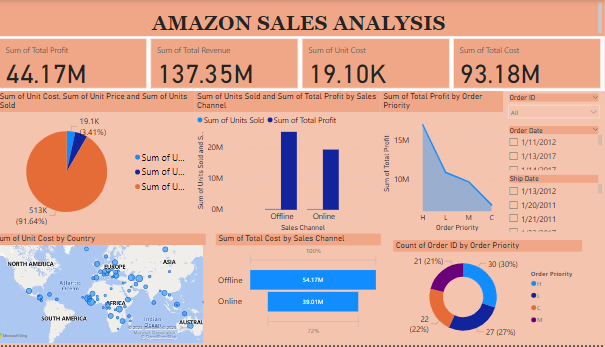

Layout of this report page (visuals, bound fields, positions):
{"tool":"powerbi","page":{"name":"Page 1","canvas":[1280,720],"ordinal":0},"visuals":[{"type":"textbox","box":[10.4,0,1268.5,75.7],"z":0},{"type":"cardVisual","fields":{"Data":["Sum(Amazon Sales data.Total Profit)","Sum(Amazon Sales data.Total Revenue)","Sum(Amazon Sales data.Unit Cost)","Sum(Amazon Sales data.Total Cost)"]},"box":[10.4,75.7,1268.5,114.8],"z":1000},{"type":"pieChart","fields":{"Y":["Sum(Amazon Sales data.Unit Cost)","Sum(Amazon Sales data.Unit Price)","Sum(Amazon Sales data.Units Sold)"]},"box":[10.4,190.5,412.4,297.6],"z":2000},{"type":"clusteredColumnChart","fields":{"Y":["Sum(Amazon Sales data.Units Sold)","Sum(Amazon Sales data.Total Profit)"],"Category":["Amazon Sales data.Sales Channel"]},"box":[422.8,190.5,388.9,297.6],"z":3000},{"type":"areaChart","fields":{"Category":["Amazon Sales data.Order Priority"],"Y":["Sum(Amazon Sales data.Total Profit)"]},"box":[811.8,190.5,255.8,297.6],"z":4000},{"type":"funnel","fields":{"Category":["Amazon Sales data.Sales Channel"],"Y":["Sum(Amazon Sales data.Total Cost)"]},"box":[467.2,488.1,344.5,219.3],"z":5000},{"type":"donutChart","fields":{"Y":["CountNonNull(Amazon Sales data.Order ID)"],"Category":["Amazon Sales data.Order Priority"]},"box":[837.9,501.2,394.1,219.3],"z":6000},{"type":"map","fields":{"Category":["Amazon Sales data.Country"],"Size":["Sum(Amazon Sales data.Unit Cost)"]},"box":[0,488.1,446.3,232.3],"z":7000},{"type":"slicer","fields":{"Values":["Amazon Sales data.Order ID"]},"box":[1067.6,190.5,211.4,67.9],"z":8000},{"type":"slicer","fields":{"Values":["Amazon Sales data.Ship Date"]},"box":[1067.6,360.2,211.4,127.9],"z":9000},{"type":"slicer","fields":{"Values":["Amazon Sales data.Order Date"]},"box":[1067.6,258.4,211.4,101.8],"z":10000}]}

Visuals, with their boxes in screenshot pixels (x1, y1, x2, y2), scaled from the page's 1280x720 canvas onto the 605x347 screenshot:
textbox: region(5, 0, 604, 36)
cardVisual - Sum(Amazon Sales data.Total Profit) x Sum(Amazon Sales data.Total Revenue): region(5, 36, 604, 92)
pieChart - Sum(Amazon Sales data.Unit Cost) x Sum(Amazon Sales data.Unit Price): region(5, 92, 200, 235)
clusteredColumnChart - Sum(Amazon Sales data.Units Sold) x Sum(Amazon Sales data.Total Profit): region(200, 92, 384, 235)
areaChart - Amazon Sales data.Order Priority x Sum(Amazon Sales data.Total Profit): region(384, 92, 505, 235)
funnel - Amazon Sales data.Sales Channel x Sum(Amazon Sales data.Total Cost): region(221, 235, 384, 341)
donutChart - CountNonNull(Amazon Sales data.Order ID) x Amazon Sales data.Order Priority: region(396, 242, 582, 346)
map - Amazon Sales data.Country x Sum(Amazon Sales data.Unit Cost): region(0, 235, 211, 346)
slicer - Amazon Sales data.Order ID: region(505, 92, 604, 125)
slicer - Amazon Sales data.Ship Date: region(505, 174, 604, 235)
slicer - Amazon Sales data.Order Date: region(505, 125, 604, 174)
